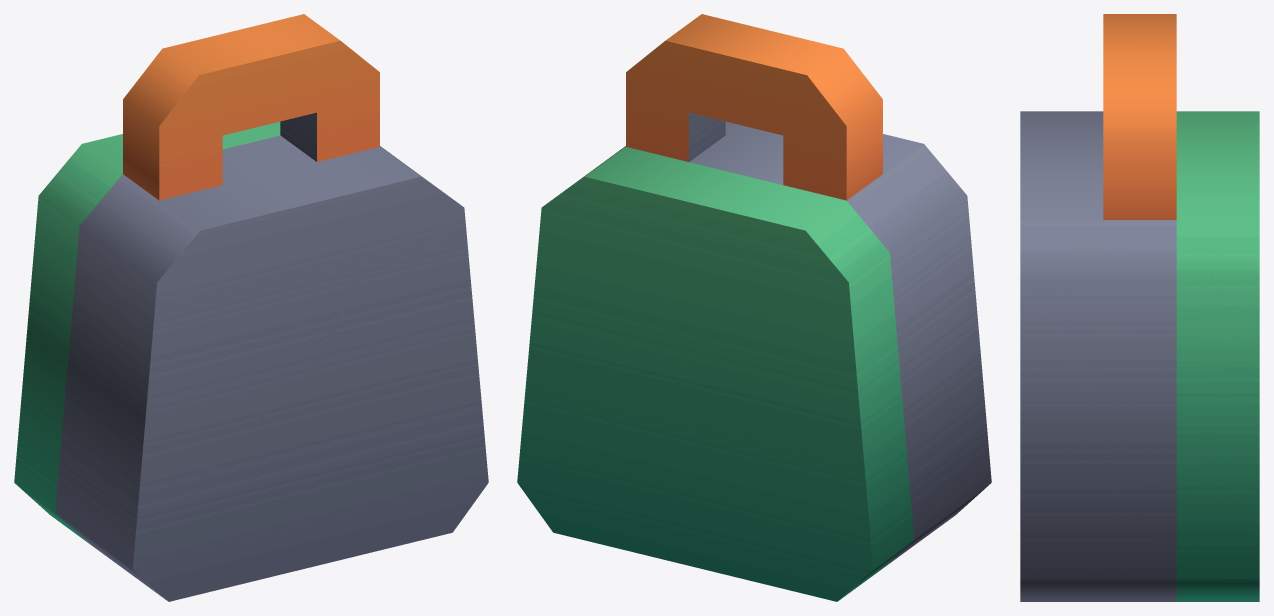
File: health_aid.glb
The picture shows the model from 3 angles, left to right: view 1: azimuth 30°, elevation 25°; view 2: azimuth 150°, elevation 25°; view 3: azimuth 270°, elevation 25°; orthographic projection.
Visible parts, largest first — view 1: aid_health; view 2: aid_health; view 3: aid_health.
Boxes of the visible parts, x1,y1,x2,y2 form: aid_health: (14,14,488,601); aid_health: (517,14,991,601); aid_health: (1020,14,1259,601).
Bounding box in the file's own units: 1.03 × 1.32 × 0.5924.
1 material, 1 textured.
